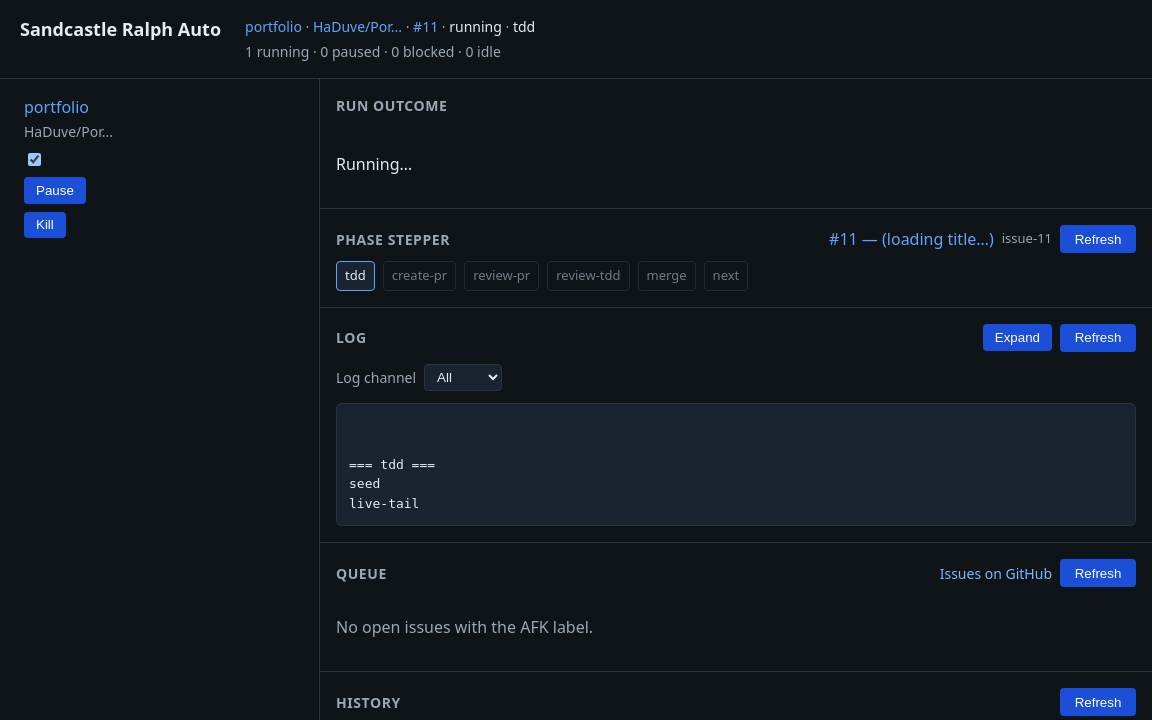
Test: App › preserves SSE log tail when refreshing the log tile on the live phase
Expected: the text "=== tdd === seed live-tail" is shown, [336, 402, 1136, 526]
Expected: the text with test id "log-preview" shows "seed", [349, 456, 435, 510]
Click the button with aria-label "refresh log". click: (1098,338)
box: [1060, 324, 1136, 352]
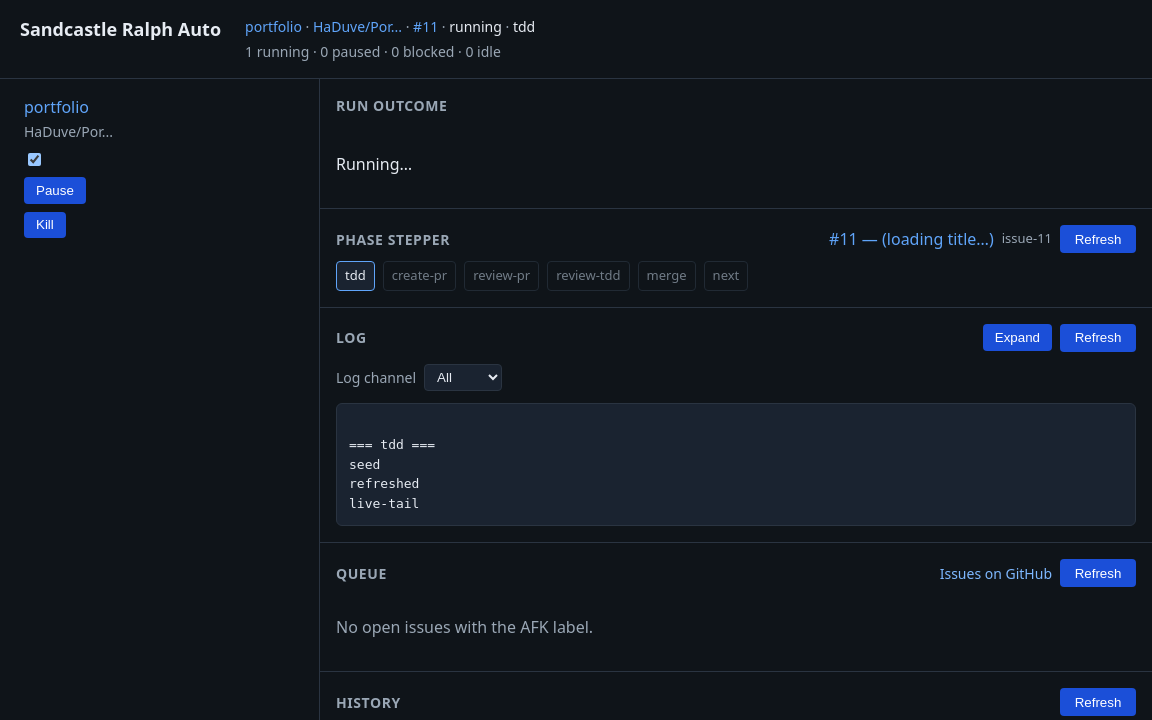
Expected: the text with test id "log-preview" shows "live-tail", [349, 437, 435, 510]
Expected: the text with test id "log-preview" shows "refreshed", [349, 437, 435, 510]
